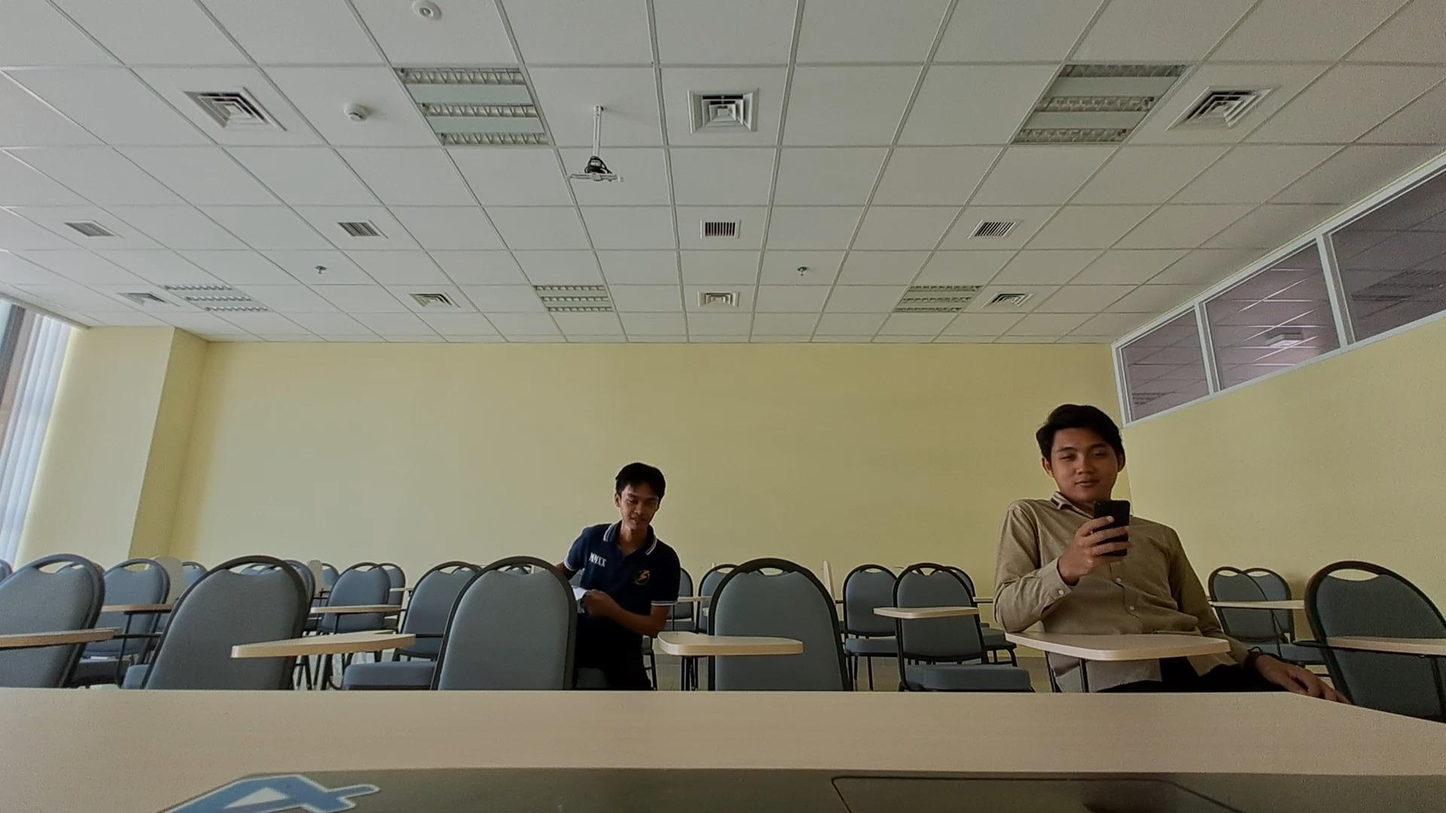phone: (981, 399, 1209, 632)
study: (557, 444, 685, 636)
